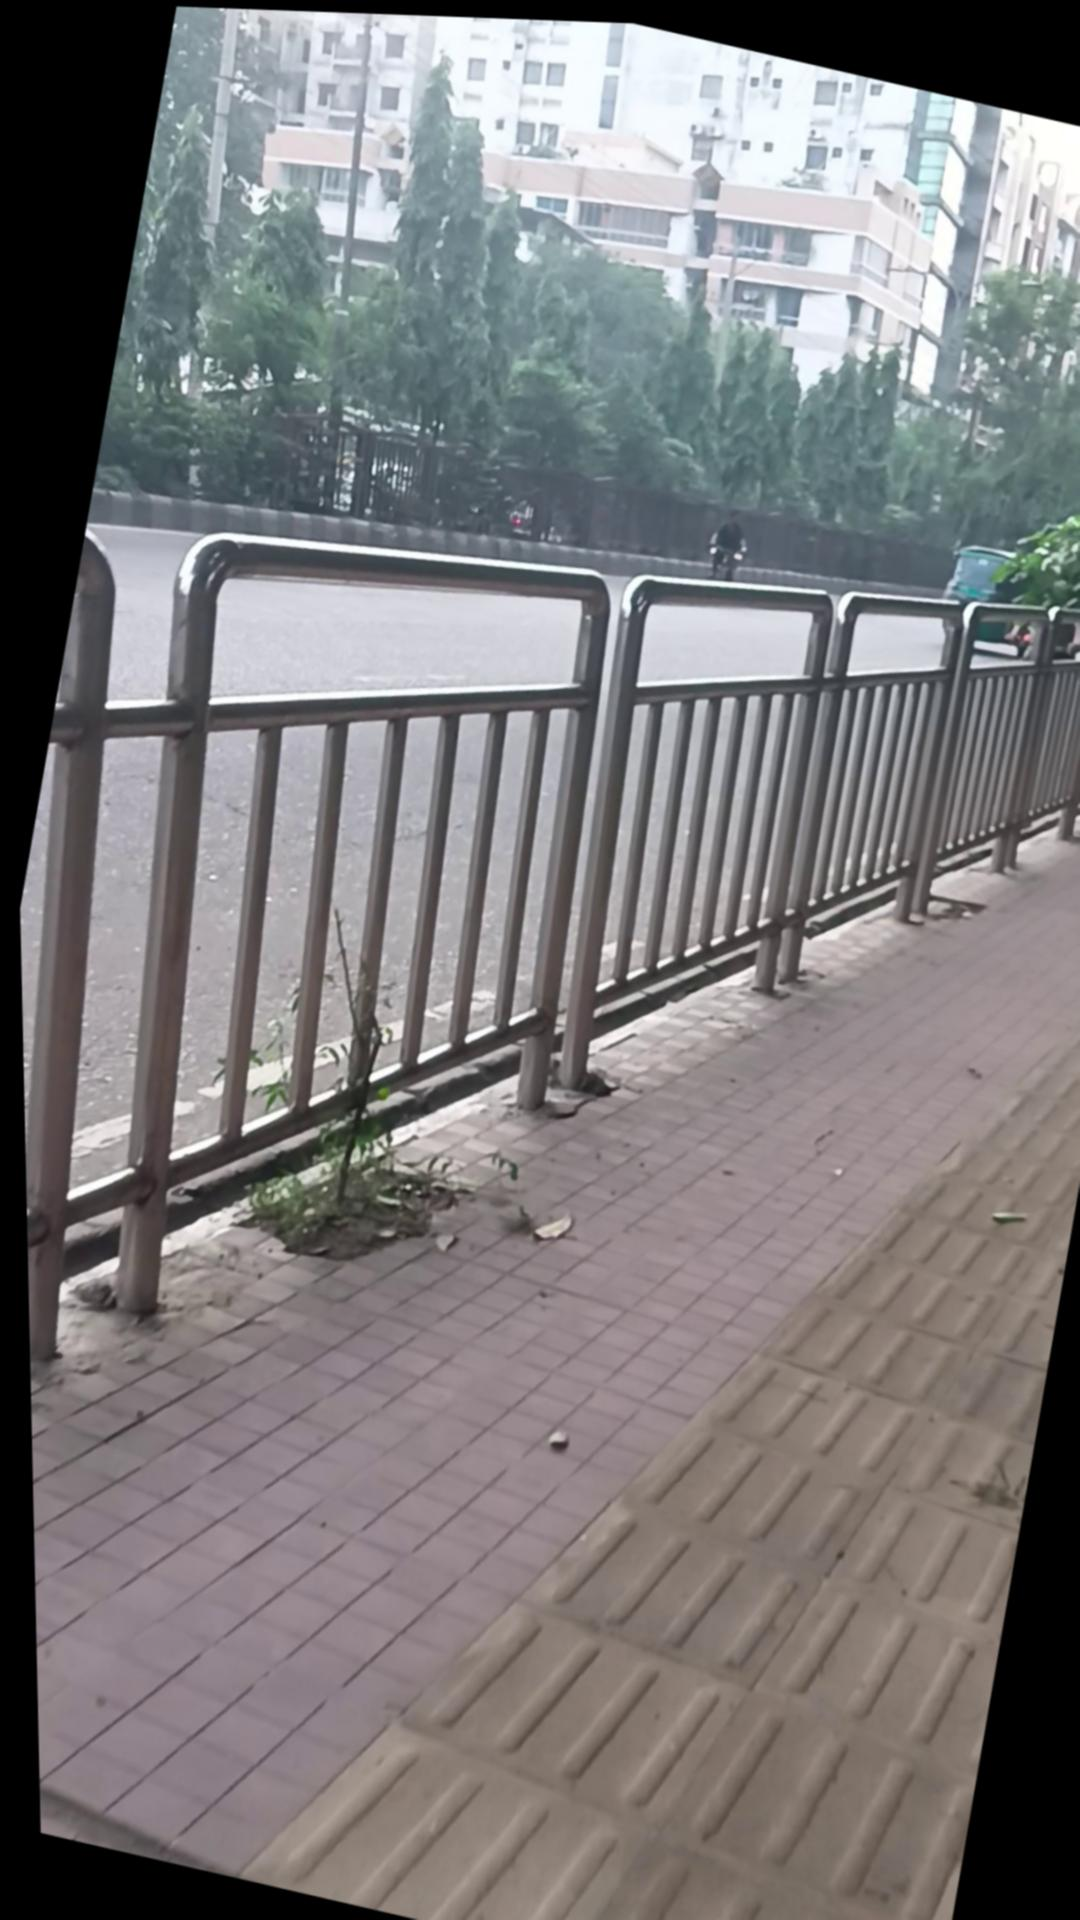Muddy road: (700, 498, 751, 579)
Potted-plant: (9, 541, 1080, 1920)
Traffic-sign: (927, 528, 1080, 665)
